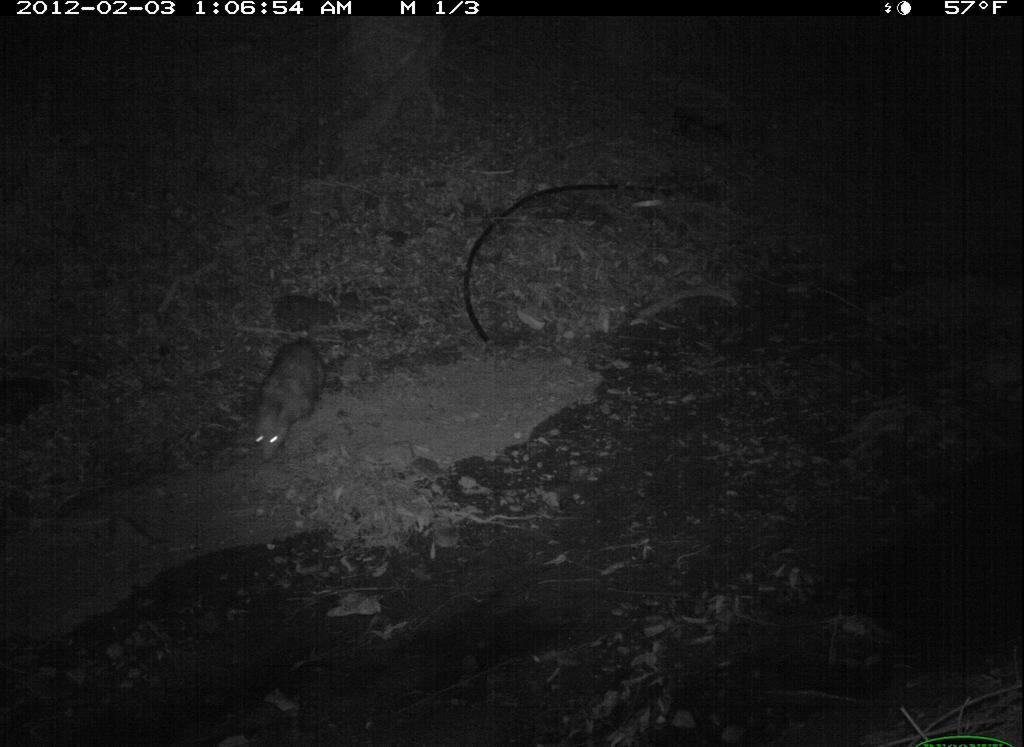opossum: (245, 321, 336, 482)
